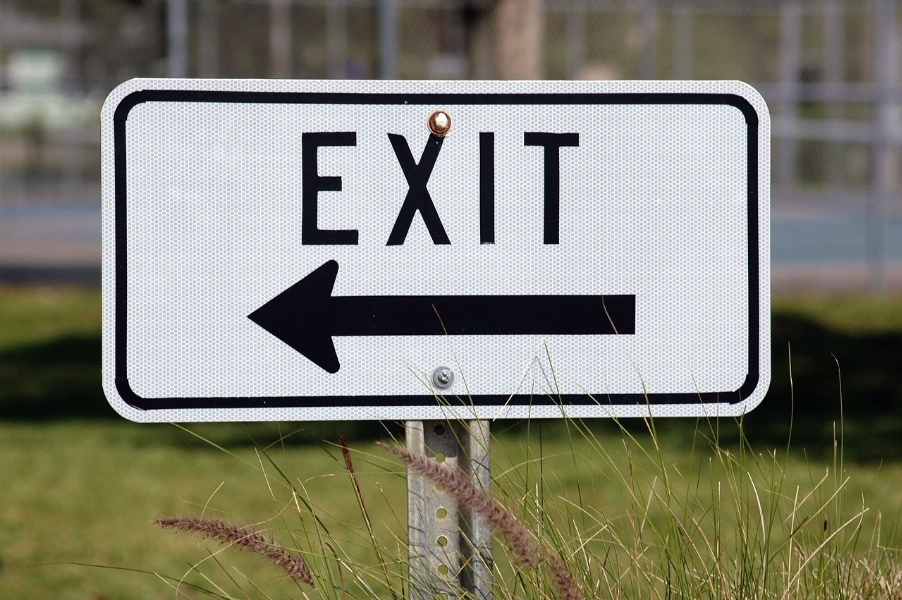text: (305, 131, 320, 247), (321, 131, 336, 247), (337, 131, 352, 247), (353, 131, 368, 247), (369, 131, 384, 247), (385, 131, 400, 247), (401, 131, 416, 247), (417, 131, 432, 247), (433, 131, 448, 247), (449, 131, 464, 247), (465, 131, 480, 247), (481, 131, 496, 247), (497, 131, 512, 247), (513, 131, 528, 247), (529, 131, 544, 247), (545, 131, 560, 247), (561, 131, 576, 247), (301, 131, 304, 247), (577, 131, 580, 247)
